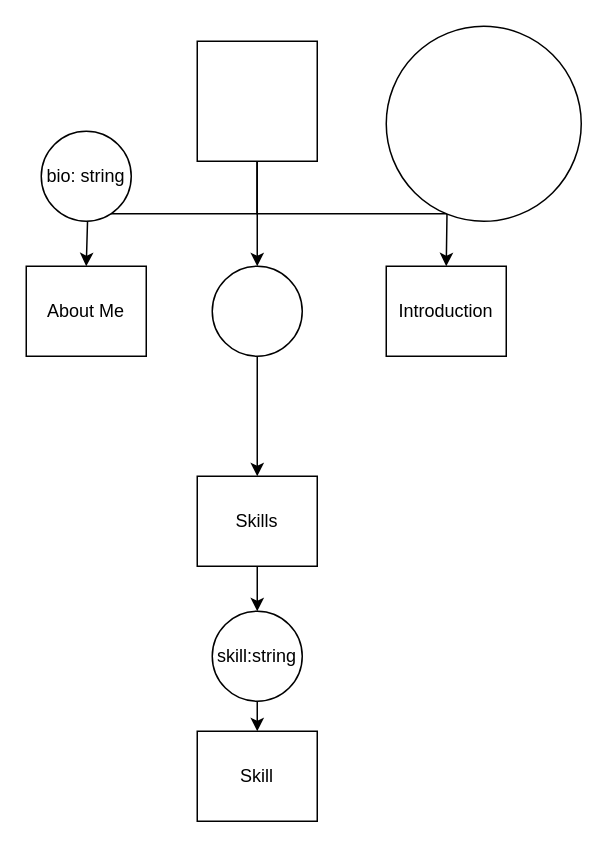
Image size: 608x848. Some labels were removed from this diagram. The centre of each missing label's shape, as x and y in pixels:
App: the point at 256,100
photoUrl: string firstName: string lastName: string companyName: string: the point at 483,123
skills: string list: the point at 256,310
